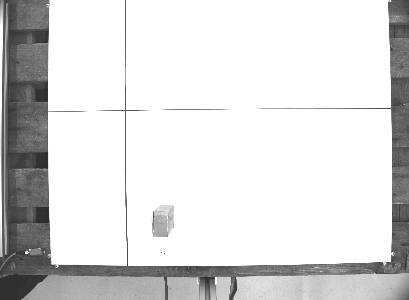b1: (150, 202, 176, 239)
